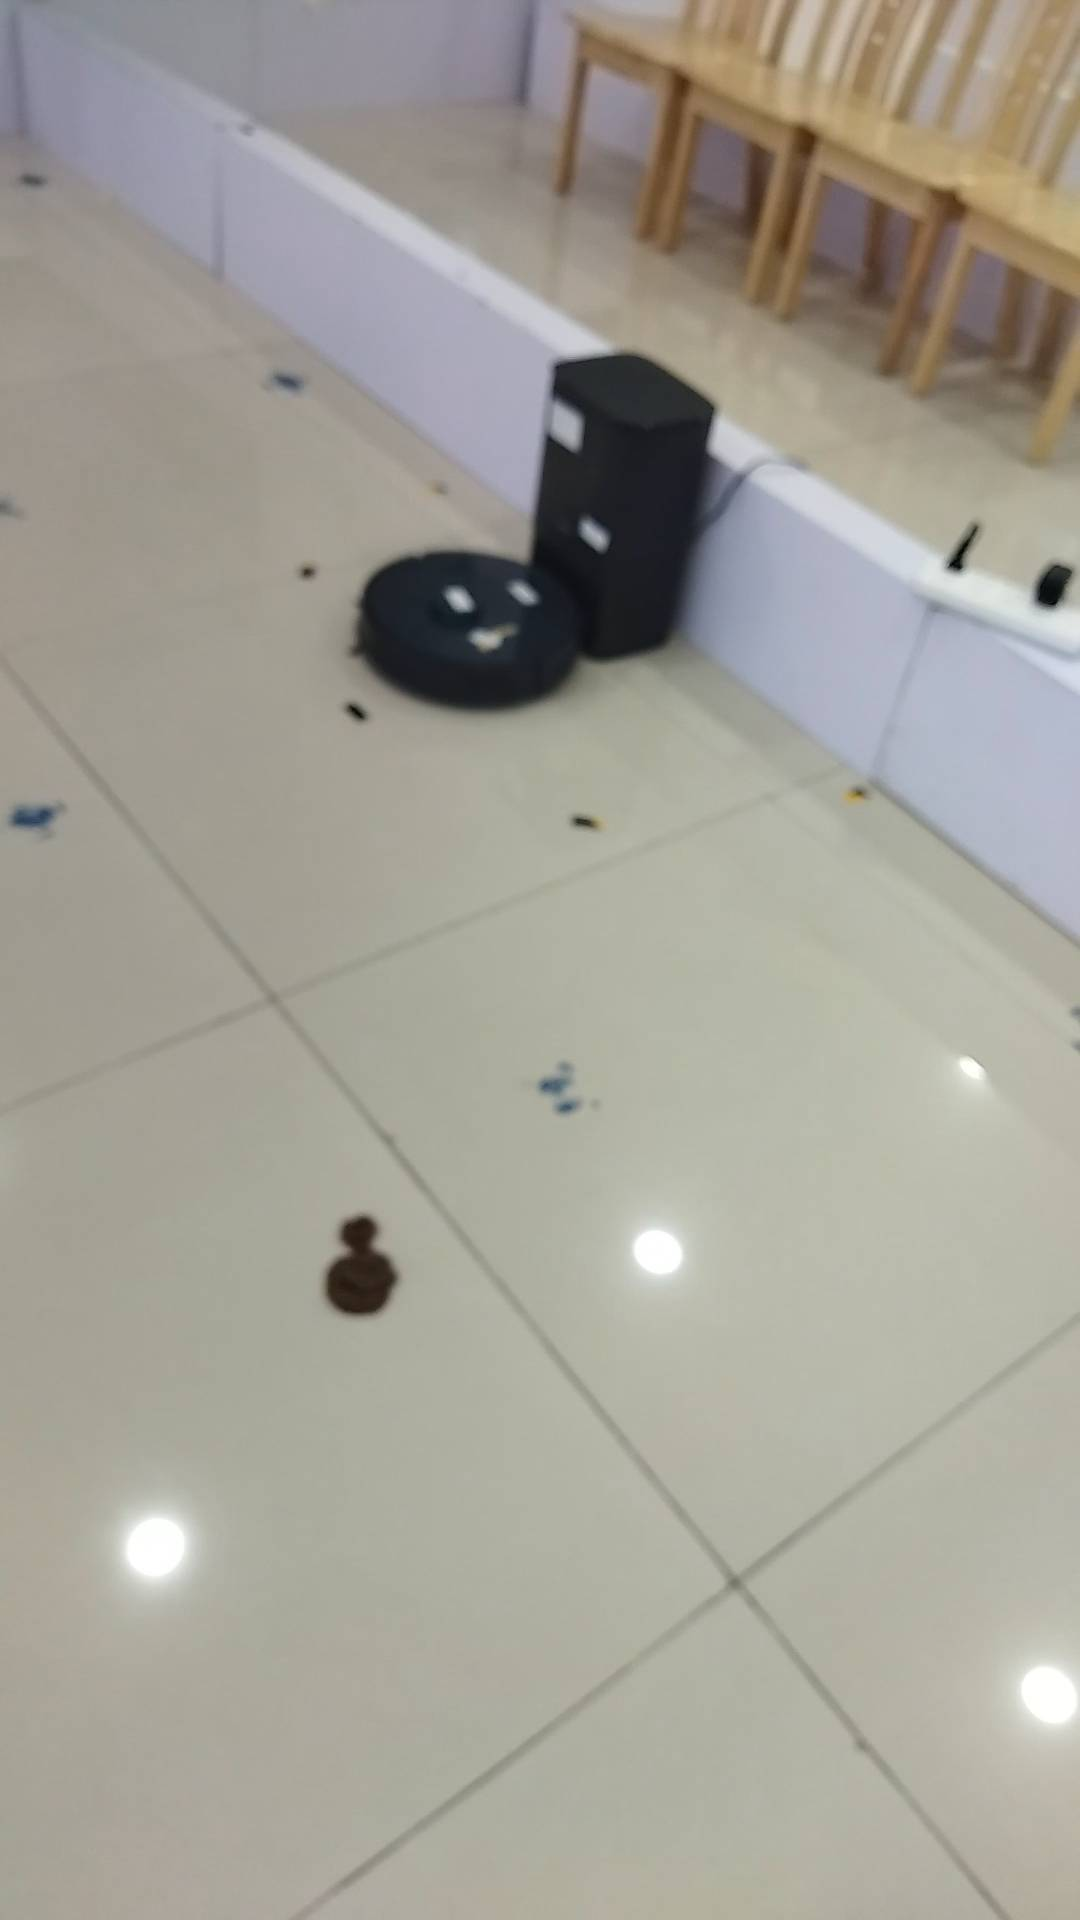dust collecting barrel: (529, 349, 717, 661)
